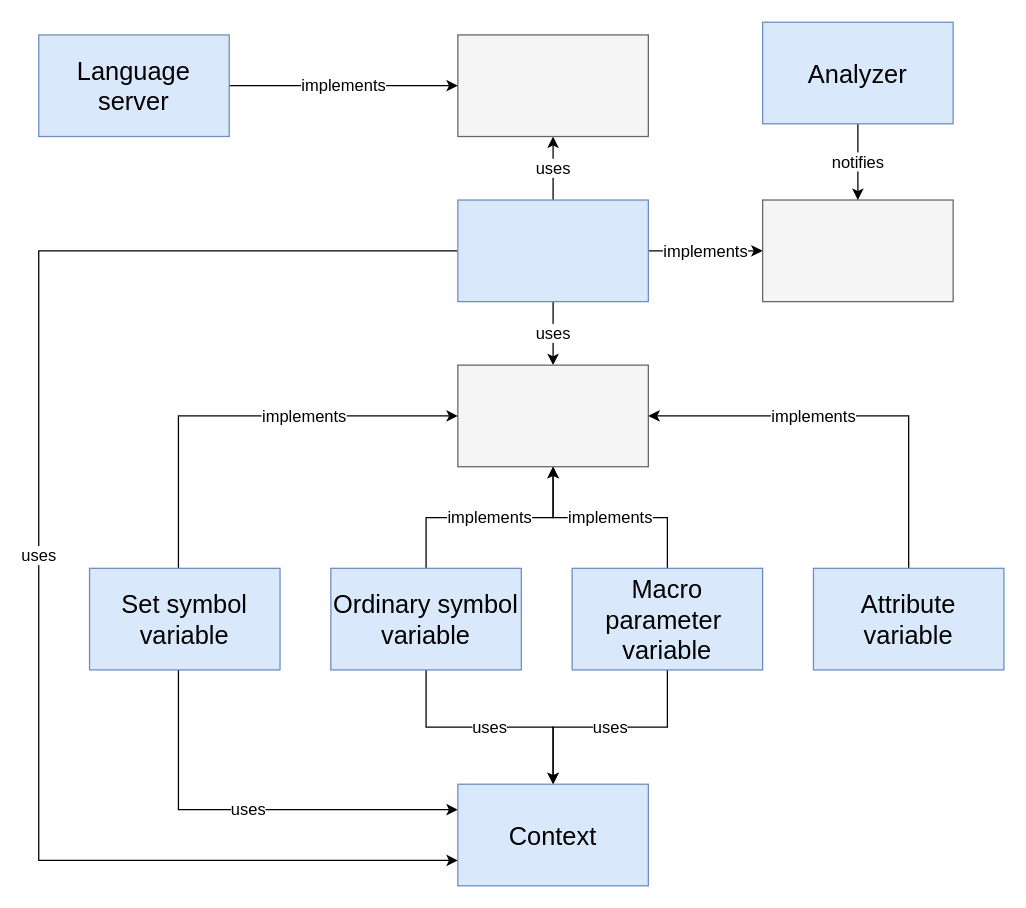
Some shapes in this 1026 by 908 pixel diagram are drawn without their labels. The centre of each missing label's shape, as x and y in pixels:
Debug event consumer: (552,85)
Debugger: (552,250)
Processor tracer: (857,250)
Variable: (552,415)
